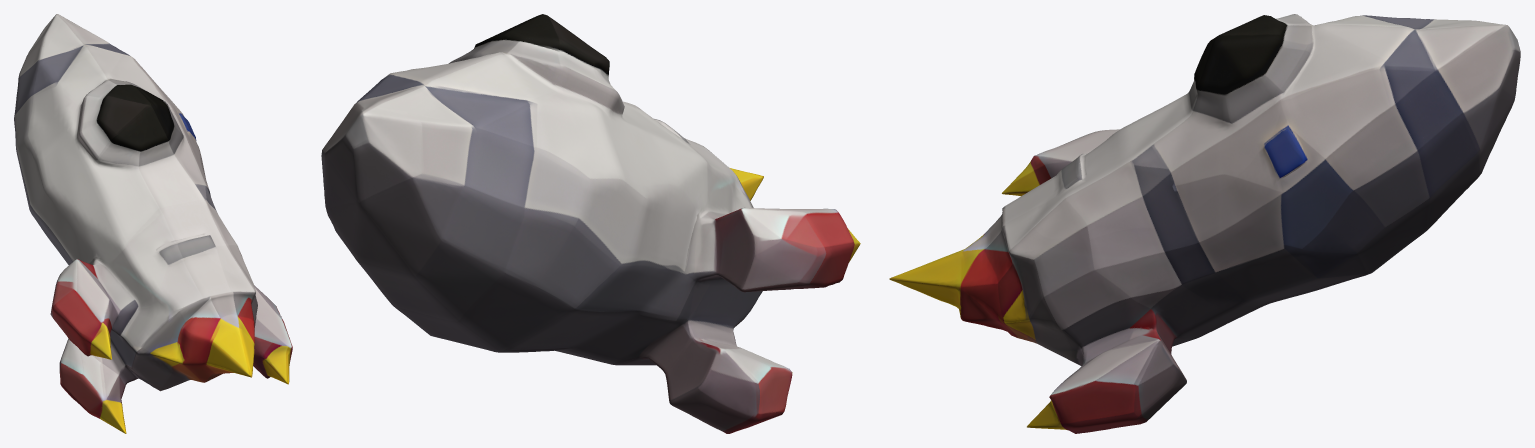
The model's file is tripo_convert_162a0be6-f7dc-4b42-81d3-89da4f919095.fbx.
3 renders of one model, left to right at view 1: azimuth 30°, elevation 25°; view 2: azimuth 150°, elevation 25°; view 3: azimuth 270°, elevation 25°, orthographic. The views are drawn at different scales.
Parts seen in each view (by area): view 1: tripo_node_162a0be6; view 2: tripo_node_162a0be6; view 3: tripo_node_162a0be6.
Boxes of the visible parts, x1=… form: tripo_node_162a0be6: x1=14, y1=14, x2=292, y2=433; tripo_node_162a0be6: x1=321, y1=14, x2=860, y2=433; tripo_node_162a0be6: x1=889, y1=14, x2=1520, y2=433.
Size of the model in its own units: 58.29 by 97.81 by 66.34.
Materials: 1 (1 with a texture image).
